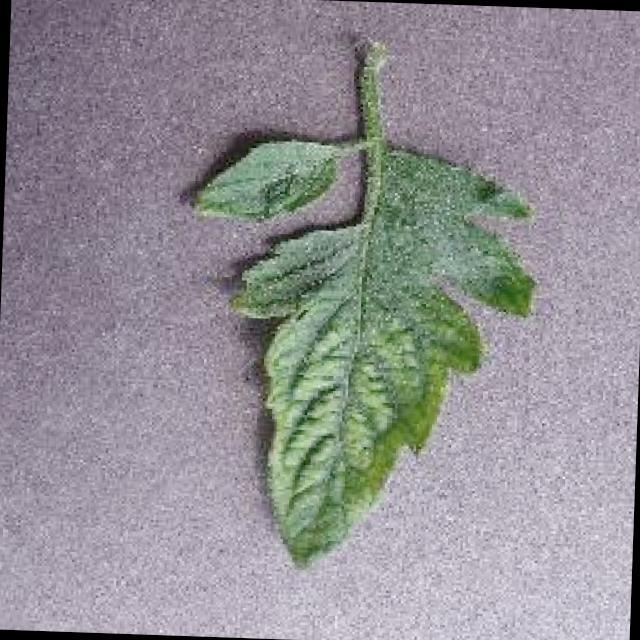Tomato mosaic virus leaf: (174, 124, 541, 591)
